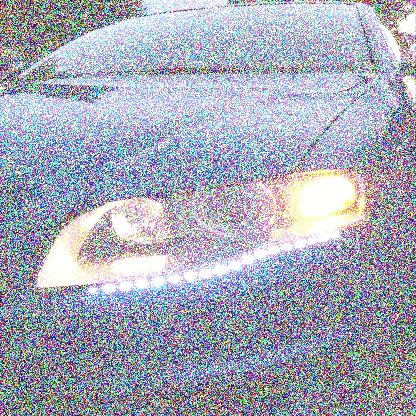Vehicle: (0, 0, 414, 416)
